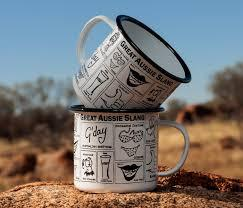Mug: (46, 4, 213, 197)
